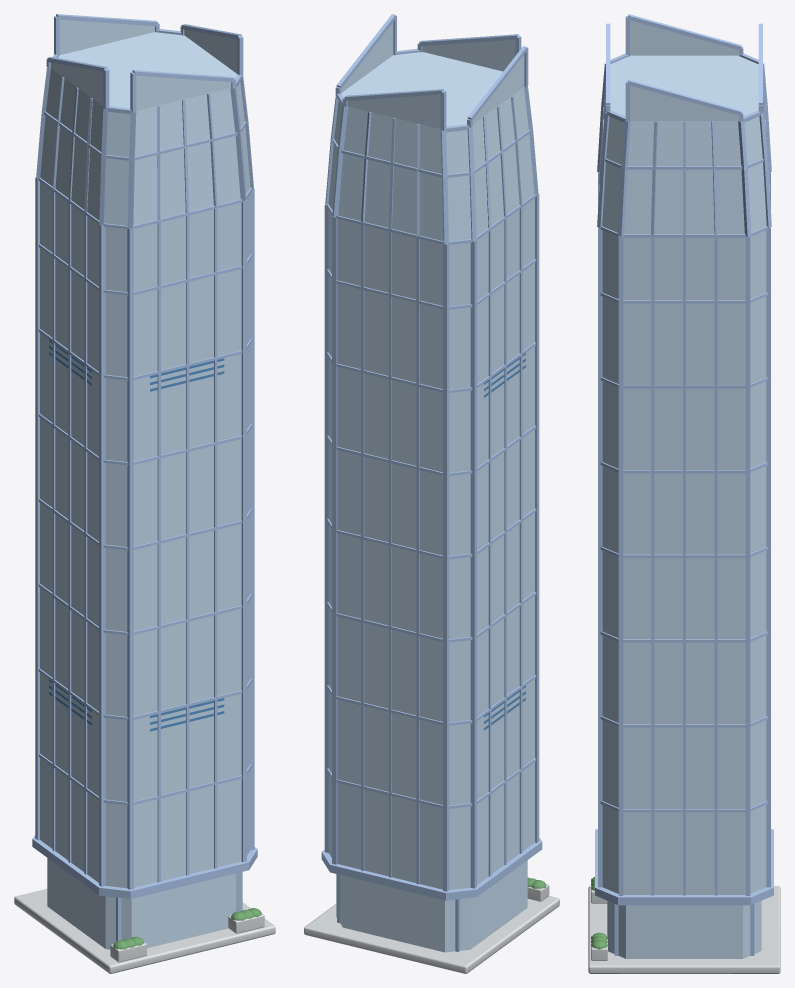
Rendered from one-island-east.glb.
3 views of the same model, side by side, from view 1: azimuth 30°, elevation 25°; view 2: azimuth 150°, elevation 25°; view 3: azimuth 270°, elevation 25° (orthographic). The views are drawn at different scales.
Parts seen in each view (by area): view 1: OIE continuous curtain wall, OIE recessed lobby glazing, OIE plaza plinth, OIE entrance canopy, OIE raised crown screen, OIE raised crown screen.002, OIE raised crown screen.001, OIE raised crown screen.003, OIE crown screen edge.007, OIE crown screen edge.001, OIE vertical curtain mullion.140, OIE vertical curtain mullion.142 (+12 smaller); view 2: OIE continuous curtain wall, OIE recessed lobby glazing, OIE plaza plinth, OIE entrance canopy, OIE raised crown screen, OIE raised crown screen.002, OIE raised crown screen.001, OIE raised crown screen.003, OIE crown screen edge.007, OIE crown screen edge.001, OIE crown screen edge.010, OIE crown screen edge.004 (+14 smaller); view 3: OIE continuous curtain wall, OIE recessed lobby glazing, OIE plaza plinth, OIE entrance canopy, OIE raised crown screen.003, OIE raised crown screen.001, OIE crown screen edge.004, OIE crown screen edge.010, OIE vertical curtain mullion.052, OIE vertical curtain mullion.056, OIE vertical curtain mullion.092, OIE vertical curtain mullion.096 (+21 smaller).
Boxes of the visible parts, x1,y1,x2,y2 form: OIE continuous curtain wall: [40, 32, 250, 888]; OIE recessed lobby glazing: [47, 858, 242, 949]; OIE plaza plinth: [14, 889, 275, 973]; OIE entrance canopy: [32, 835, 257, 898]; OIE raised crown screen: [59, 19, 154, 54]; OIE raised crown screen.002: [136, 75, 231, 110]; OIE raised crown screen.001: [184, 29, 237, 73]; OIE raised crown screen.003: [50, 62, 103, 105]; OIE crown screen edge.007: [132, 70, 234, 82]; OIE crown screen edge.001: [56, 14, 157, 26]; OIE vertical curtain mullion.140: [127, 804, 133, 889]; OIE vertical curtain mullion.142: [127, 634, 133, 719]; OIE continuous curtain wall: [328, 52, 534, 889]; OIE recessed lobby glazing: [336, 860, 527, 952]; OIE plaza plinth: [304, 896, 559, 973]; OIE entrance canopy: [321, 837, 542, 900]; OIE raised crown screen: [347, 94, 440, 128]; OIE raised crown screen.002: [422, 40, 515, 71]; OIE raised crown screen.001: [341, 22, 393, 92]; OIE raised crown screen.003: [472, 54, 524, 124]; OIE crown screen edge.007: [419, 34, 519, 46]; OIE crown screen edge.001: [344, 89, 444, 100]; OIE crown screen edge.010: [467, 46, 527, 120]; OIE crown screen edge.004: [336, 14, 395, 87]; OIE continuous curtain wall: [602, 55, 766, 894]; OIE recessed lobby glazing: [607, 901, 761, 958]; OIE plaza plinth: [588, 886, 780, 973]; OIE entrance canopy: [595, 829, 773, 905]; OIE raised crown screen.003: [630, 20, 738, 55]; OIE raised crown screen.001: [630, 85, 738, 120]; OIE crown screen edge.004: [627, 79, 741, 115]; OIE crown screen edge.010: [628, 14, 741, 50]; OIE vertical curtain mullion.052: [745, 641, 750, 726]; OIE vertical curtain mullion.056: [745, 302, 750, 387]; OIE vertical curtain mullion.092: [618, 641, 623, 726]; OIE vertical curtain mullion.096: [618, 302, 623, 387].
Size of the model in its own units: 2.24 by 11.4 by 2.24.
